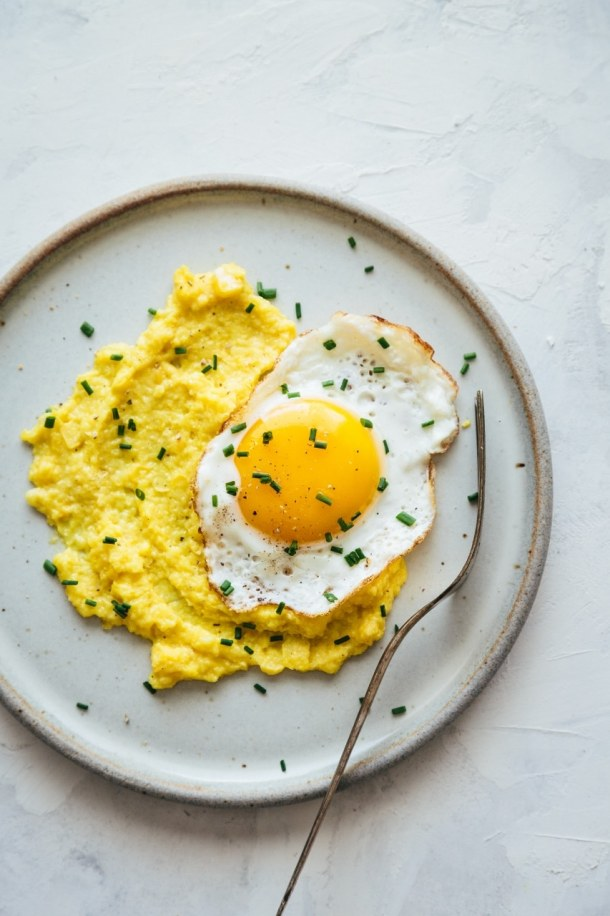fried egg: (263, 368, 397, 568)
